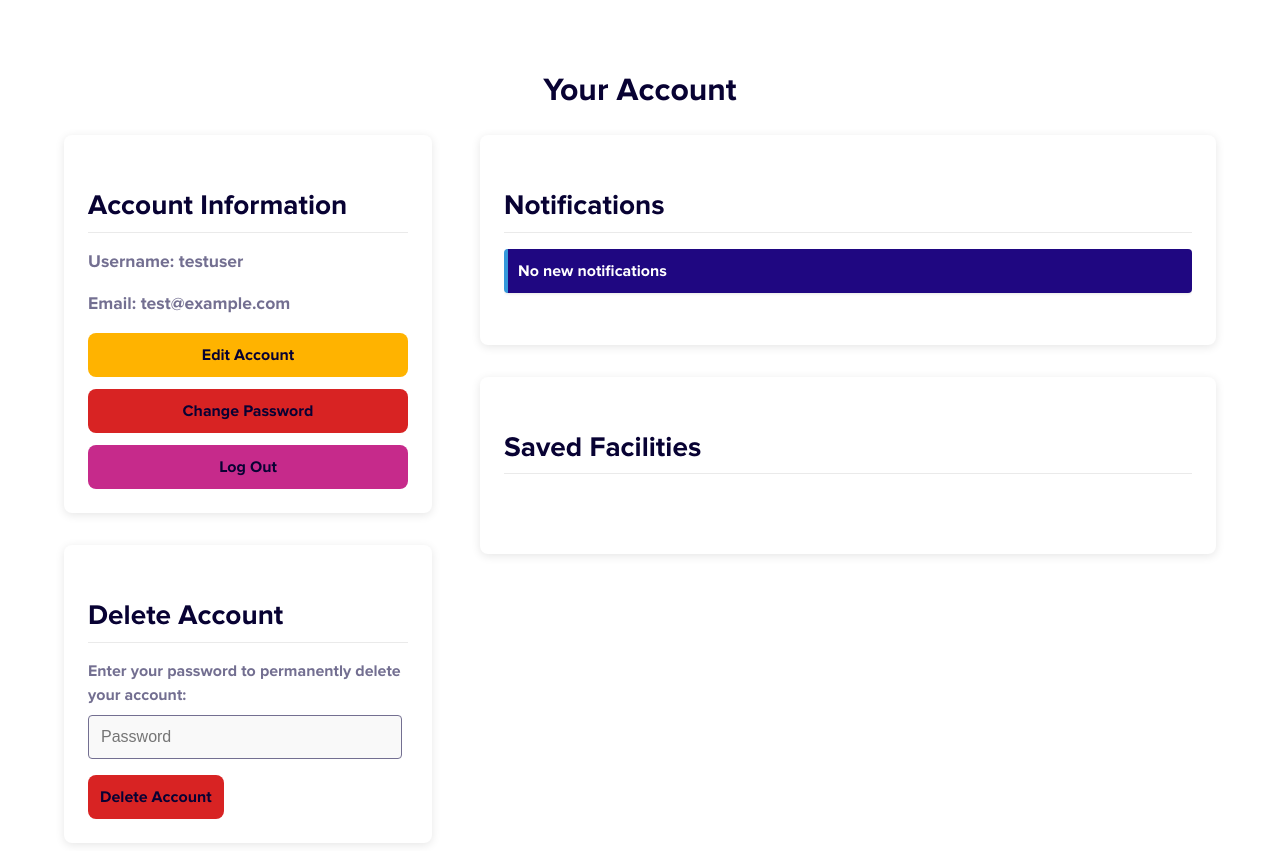
Test: Account Component › handles password change
The width and height of the screenshot is (1280, 851).
Click the button "Change Password" at {"x": 248, "y": 411}, box [88,389,408,433]
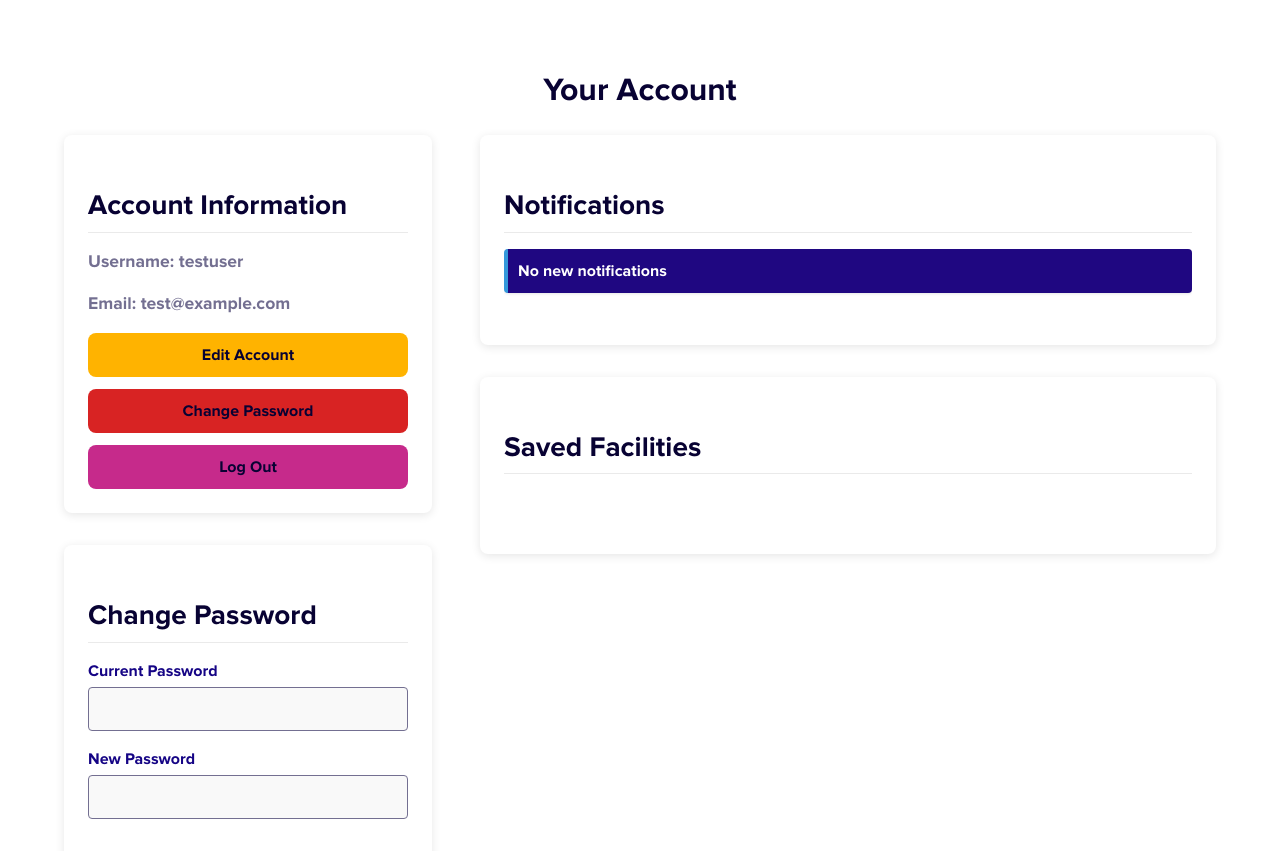
Type "oldpass" into the password field labelled "Current Password" at {"x": 248, "y": 709}, box [88,687,408,731]
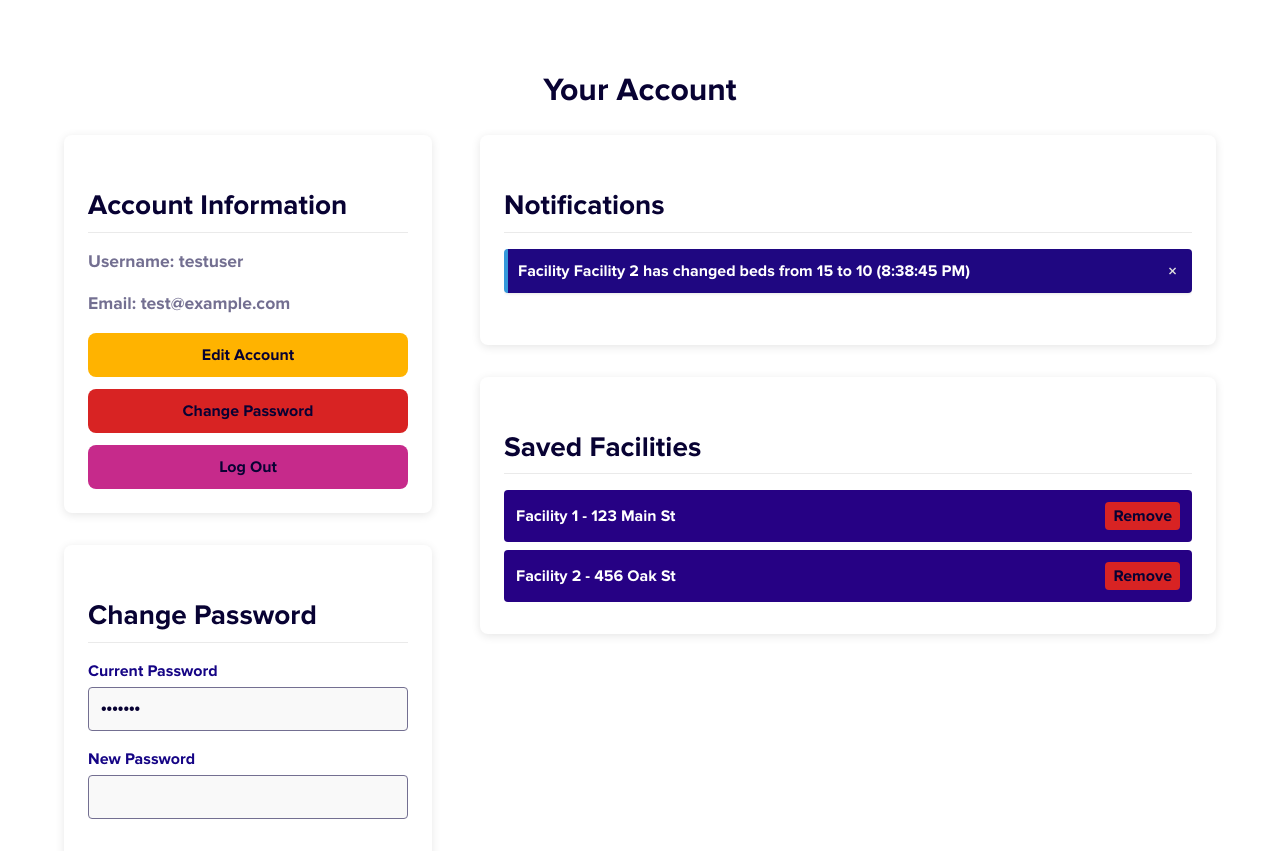
Type "newpass" into the password field labelled "New Password" at {"x": 248, "y": 797}, box [88,775,408,819]
(page scrolled)
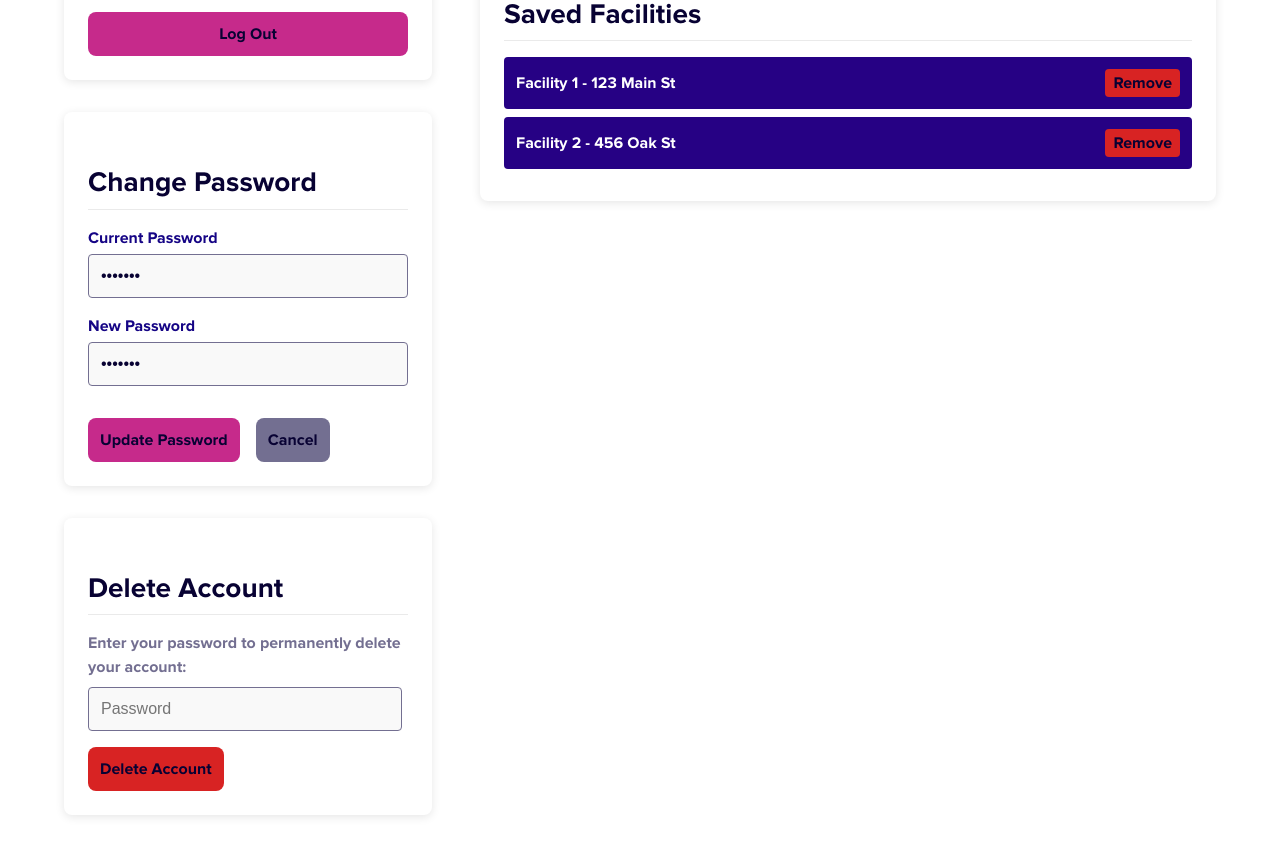
Click the button "Update Password" at {"x": 164, "y": 440}, box [88,418,240,462]
(page scrolled)
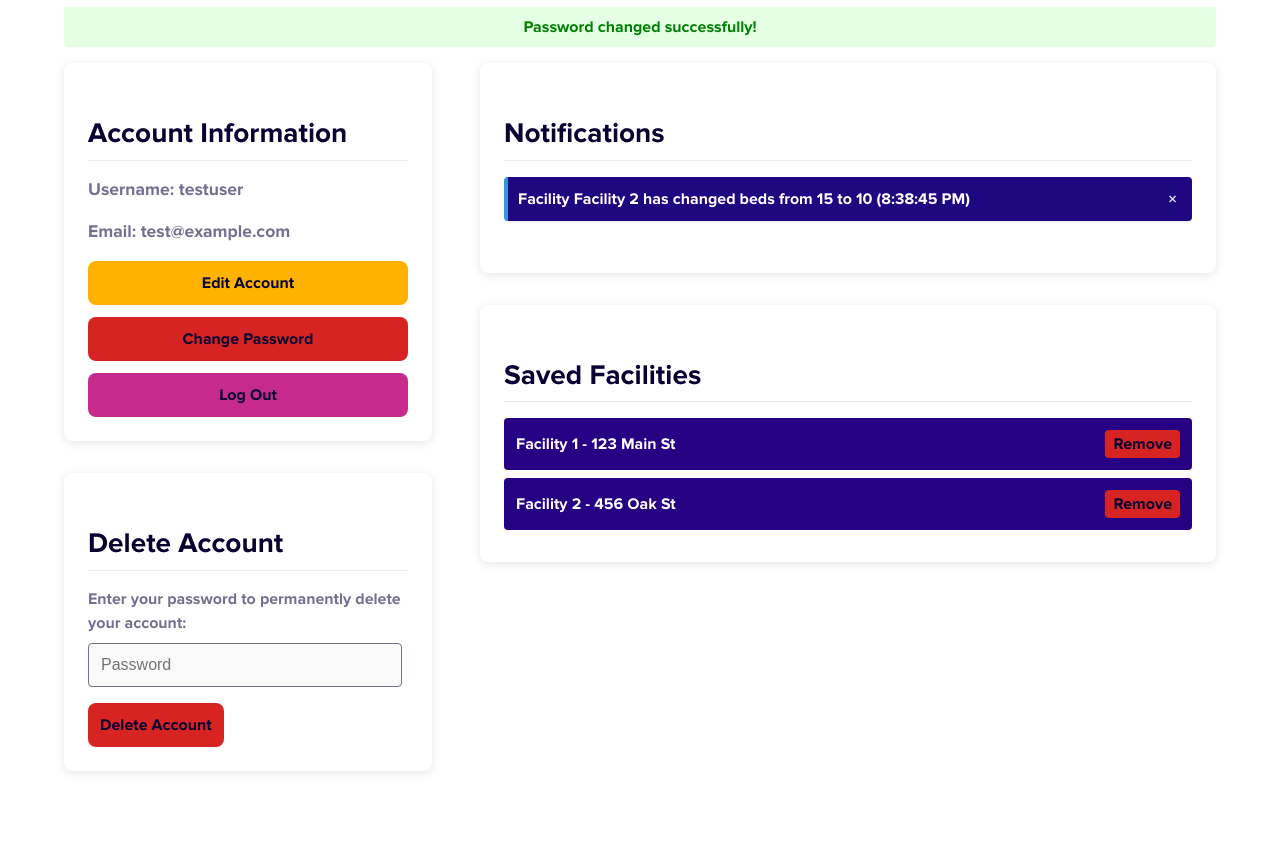
Expected: the text "Password changed successfully!" is shown, [64,7,1216,47]
